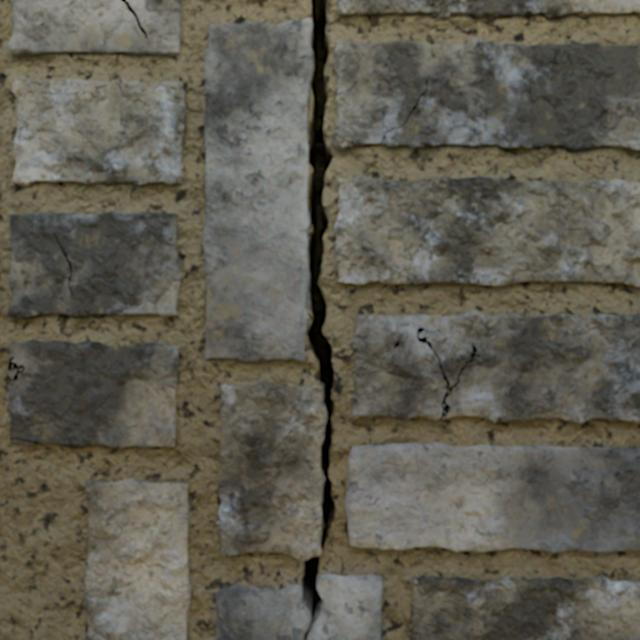broken_brick: (216, 584, 310, 639), (307, 574, 383, 639)
crack: (203, 0, 639, 639), (334, 177, 639, 287), (350, 310, 639, 423), (345, 443, 639, 552), (12, 77, 186, 186), (7, 211, 182, 319), (7, 340, 178, 448), (84, 478, 190, 639), (410, 575, 639, 639), (8, 0, 182, 58), (337, 0, 639, 19), (215, 626, 216, 639)
